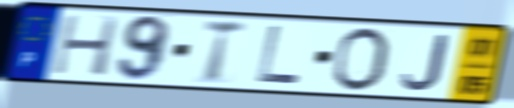9: (116, 13, 175, 85)
H: (49, 13, 123, 78)
J: (399, 33, 450, 92)
L: (254, 24, 303, 87)
O: (328, 25, 391, 94)
T: (200, 18, 250, 86)
